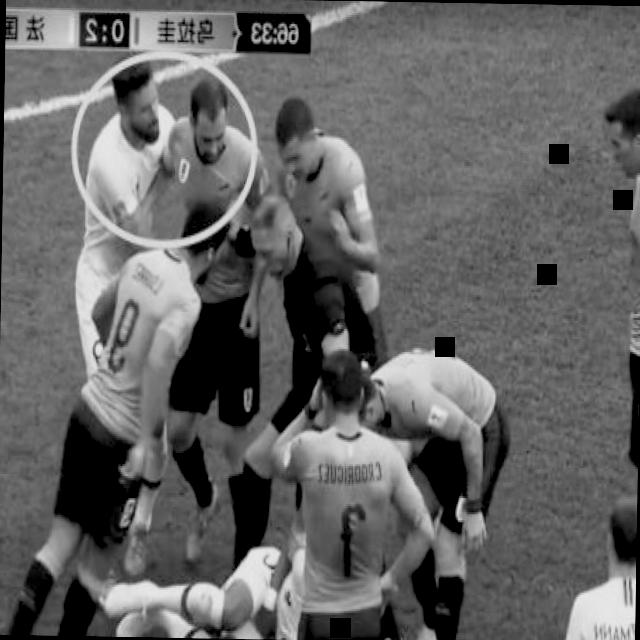Fall-Detected: (91, 507, 371, 640)
